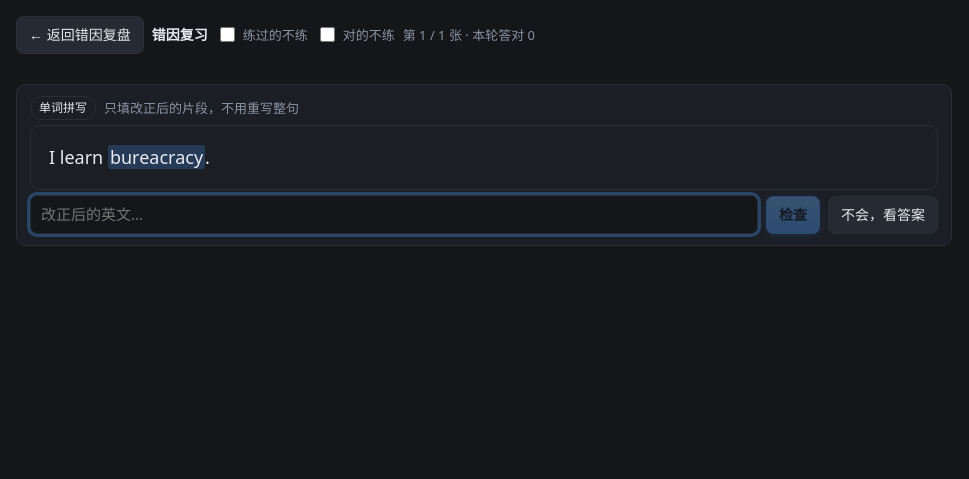
Test: GoldenErrorReview › 本地检查后可以走 AI 批改入口，记录进学习历史
Type "bureaucracy" into the field named "错因答案" at point(394, 215), box x1=30 y1=195 x2=758 y2=234
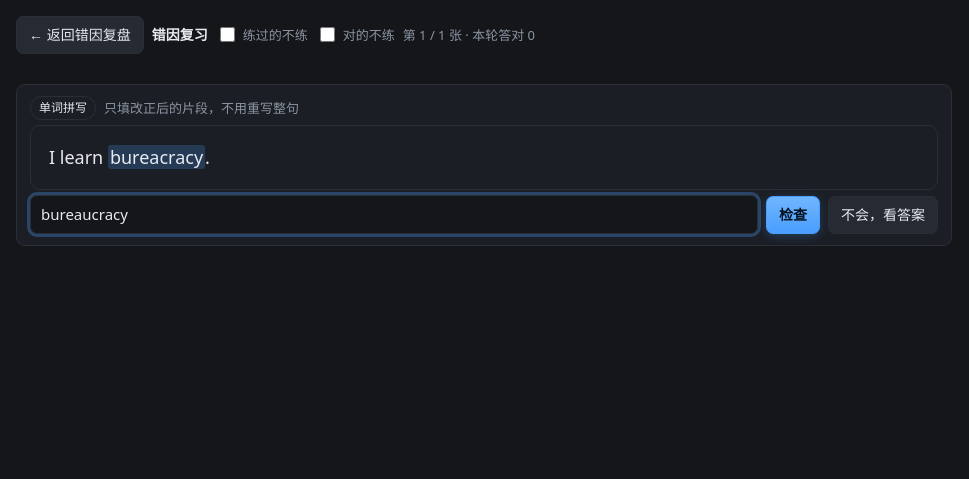
Click the button "检查" at point(793, 215), box x1=766 y1=196 x2=820 y2=234
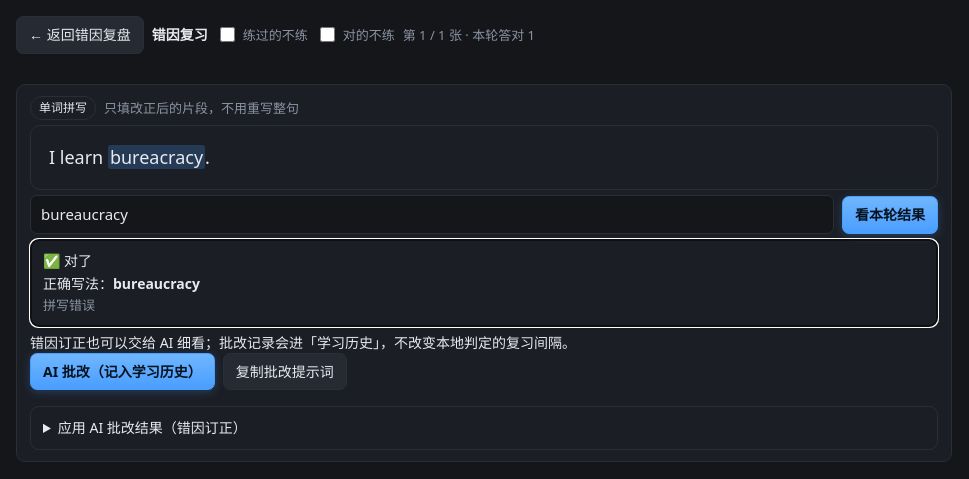
expect the button "AI 批改（记入学习历史）" is shown: met, box x1=30 y1=353 x2=215 y2=390
